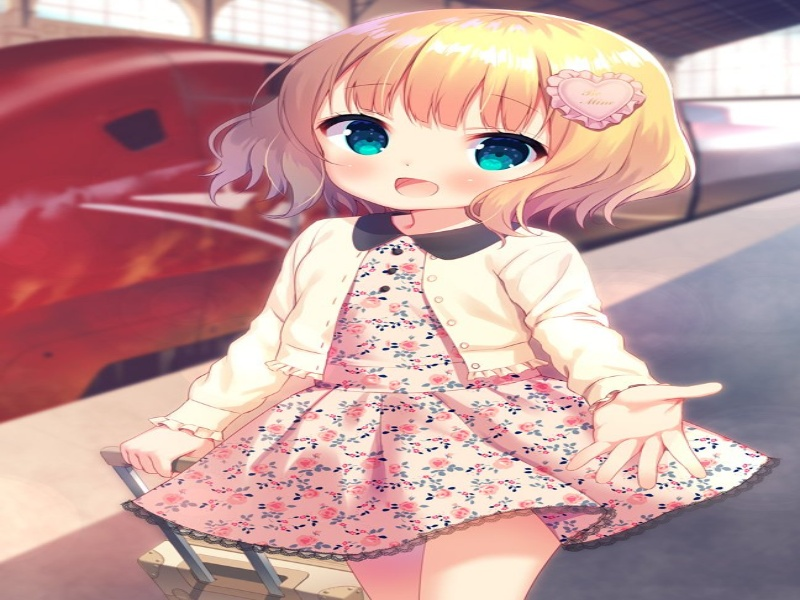person: (296, 61, 590, 228)
